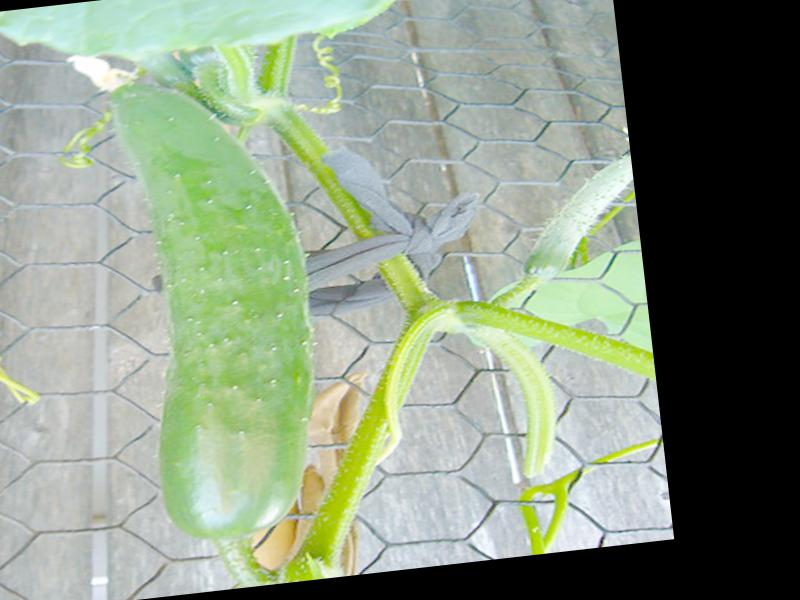Cucumber: (106, 69, 338, 546)
